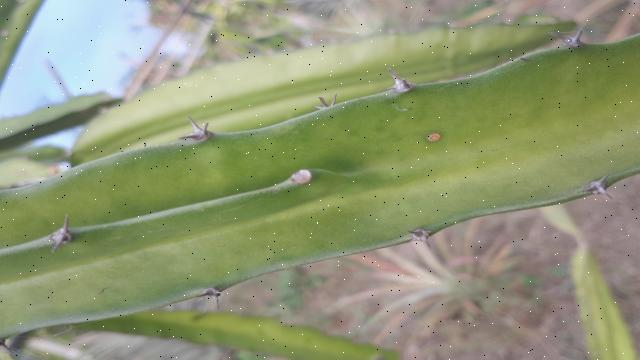stemcanker: (426, 127, 448, 146)
